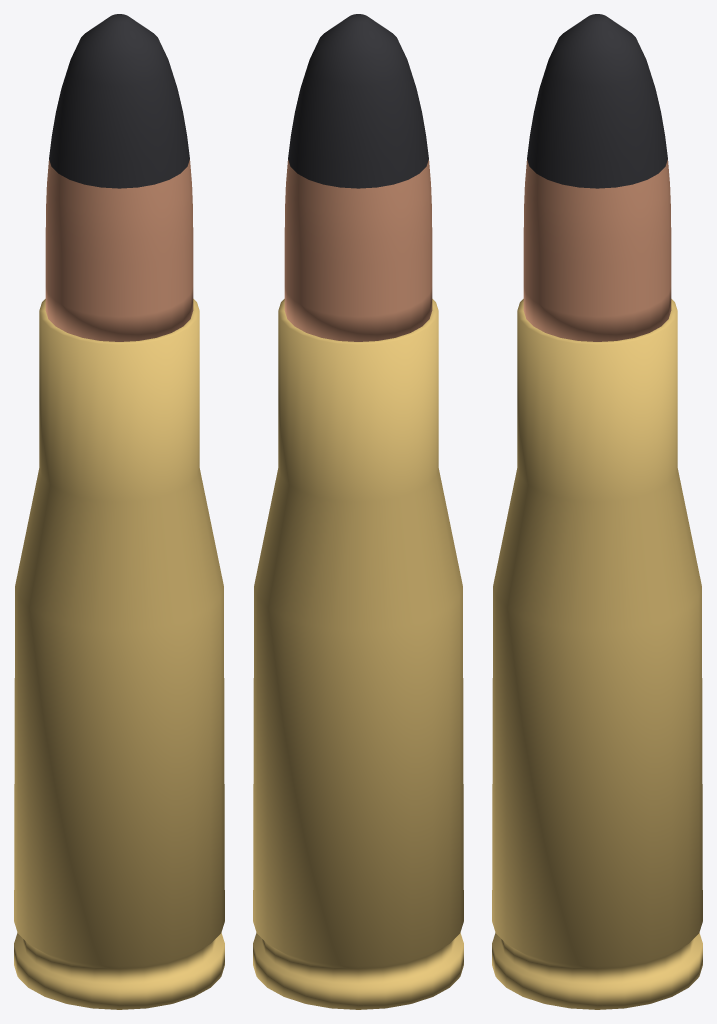
3 views of the same model, side by side, from view 1: azimuth 30°, elevation 25°; view 2: azimuth 150°, elevation 25°; view 3: azimuth 270°, elevation 25° (orthographic).
Parts seen in each view (by area): view 1: vaina, bala_cuerpo, punta; view 2: vaina, bala_cuerpo, punta; view 3: vaina, bala_cuerpo, punta.
Boxes of the visible parts, box(x1,y1,x2,y2) form: vaina: box(14, 299, 224, 1009); bala_cuerpo: box(45, 159, 193, 341); punta: box(49, 14, 189, 188); vaina: box(253, 299, 463, 1009); bala_cuerpo: box(284, 159, 432, 341); punta: box(288, 14, 428, 188); vaina: box(492, 299, 702, 1009); bala_cuerpo: box(523, 159, 671, 341); punta: box(527, 14, 667, 188).
Size of the model in its own units: 0.0113 by 0.056 by 0.0113.
